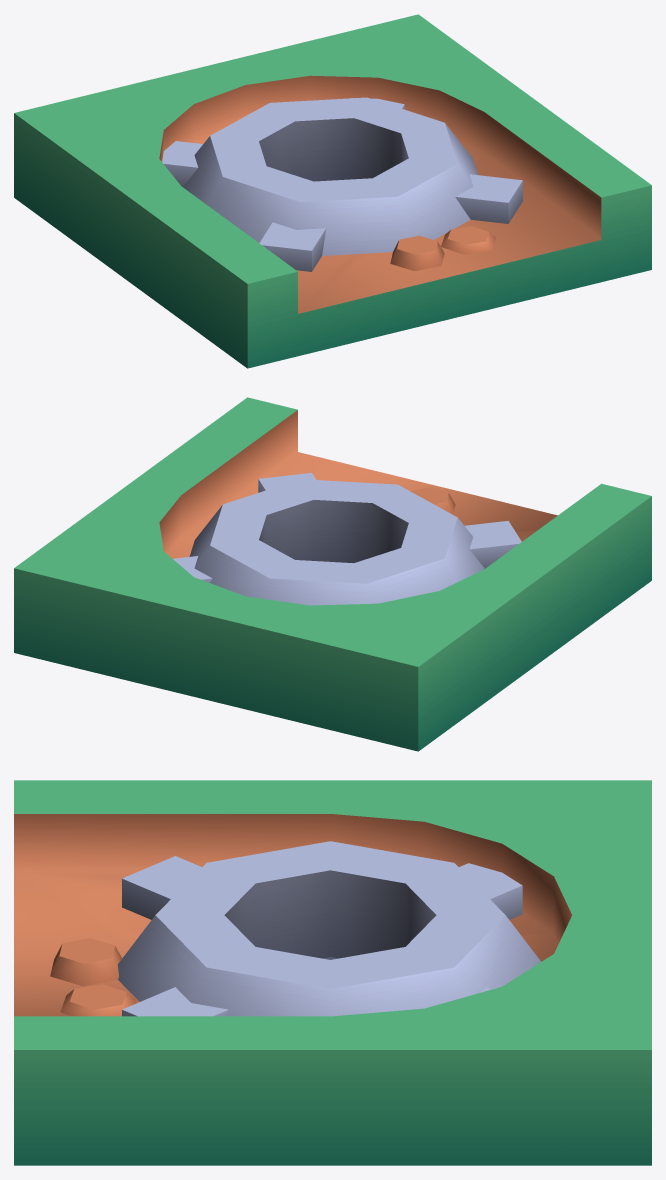
File: tile-spawn-end-round.fbx
The picture shows the model from 3 angles, top to bottom: view 1: azimuth 30°, elevation 25°; view 2: azimuth 150°, elevation 25°; view 3: azimuth 270°, elevation 25°; orthographic projection. The views are drawn at different scales.
Visible parts, largest first — view 1: tile-spawn-end-round; view 2: tile-spawn-end-round; view 3: tile-spawn-end-round.
Part boxes in pixels (x1=…): tile-spawn-end-round: x1=14, y1=14, x2=651, y2=368; tile-spawn-end-round: x1=14, y1=397, x2=651, y2=751; tile-spawn-end-round: x1=14, y1=780, x2=651, y2=1165.
Bounding box in the file's own units: 100 × 20 × 100.
